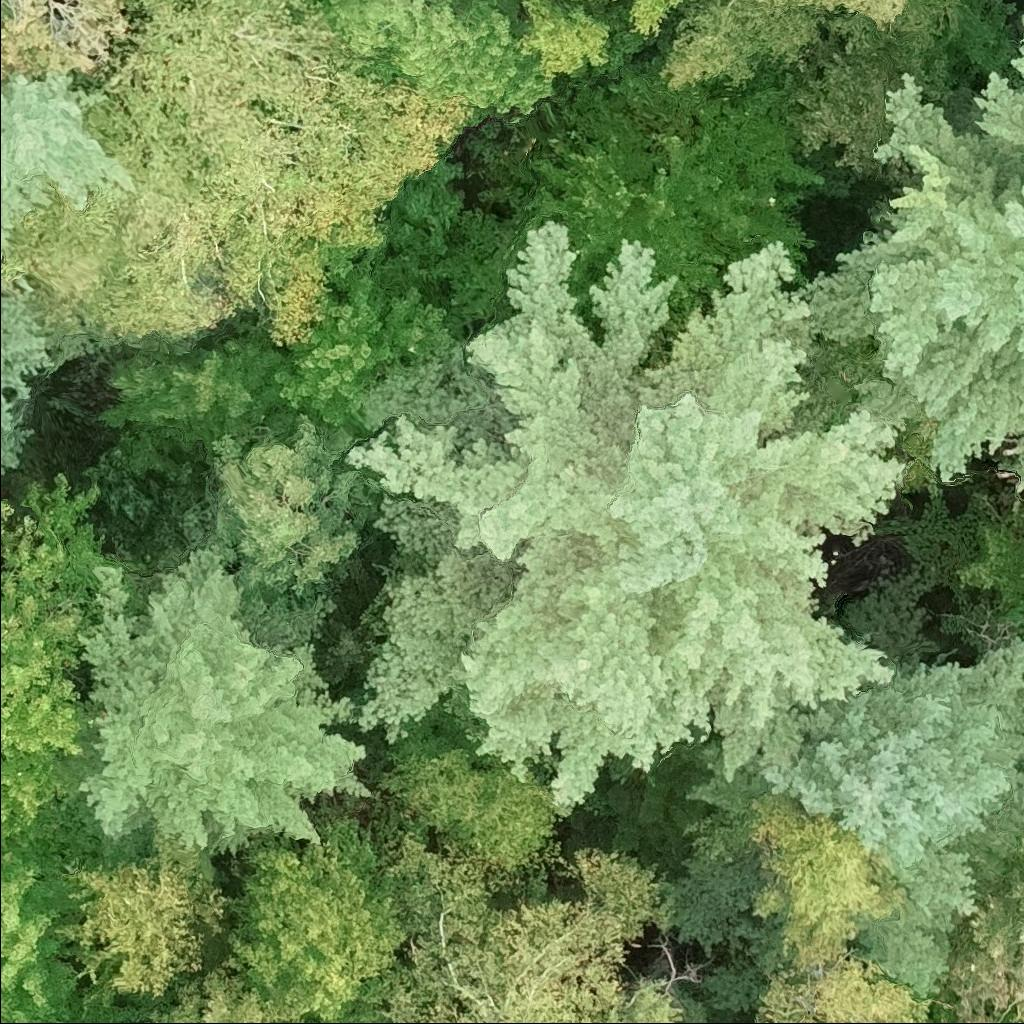crown: (346, 217, 916, 830), (687, 554, 1023, 1000), (100, 0, 492, 349), (798, 8, 1023, 498), (74, 534, 382, 864), (366, 794, 687, 1023), (0, 84, 256, 344), (0, 467, 112, 849), (213, 816, 413, 1023), (177, 408, 378, 594), (520, 81, 665, 338), (702, 794, 904, 976), (641, 124, 819, 320), (273, 252, 458, 439), (52, 832, 230, 1012), (282, 0, 553, 117), (0, 67, 137, 265), (382, 720, 557, 875), (652, 0, 917, 97), (97, 336, 286, 450), (0, 287, 100, 480), (944, 835, 1023, 1023), (692, 88, 830, 195), (0, 848, 83, 1023), (413, 204, 529, 324), (0, 0, 143, 93), (755, 956, 941, 1023), (147, 968, 306, 1023), (954, 520, 1023, 640), (516, 0, 611, 77), (626, 0, 689, 41), (682, 996, 709, 1023), (975, 1017, 1023, 1023), (8, 1016, 30, 1023)
